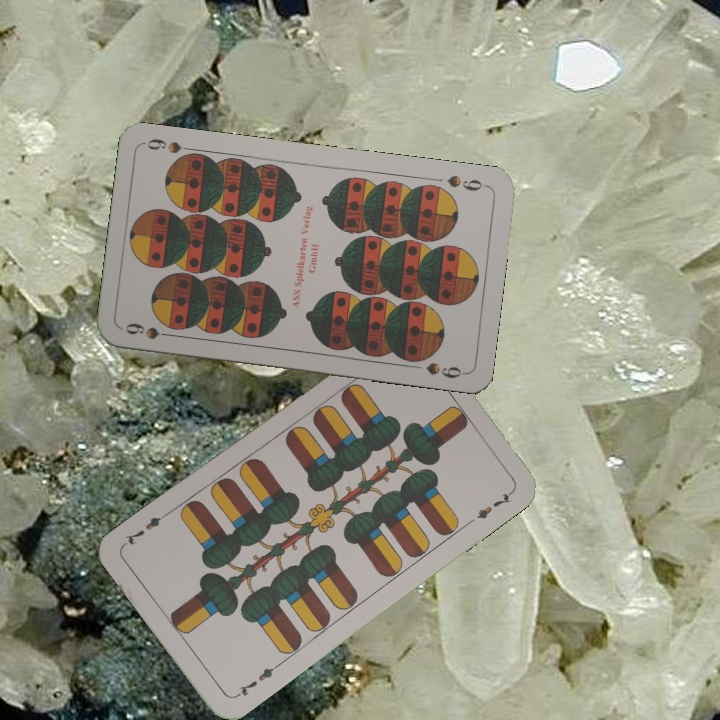E7: (231, 660, 282, 701)
S9: (121, 318, 180, 342), (443, 171, 490, 194)
